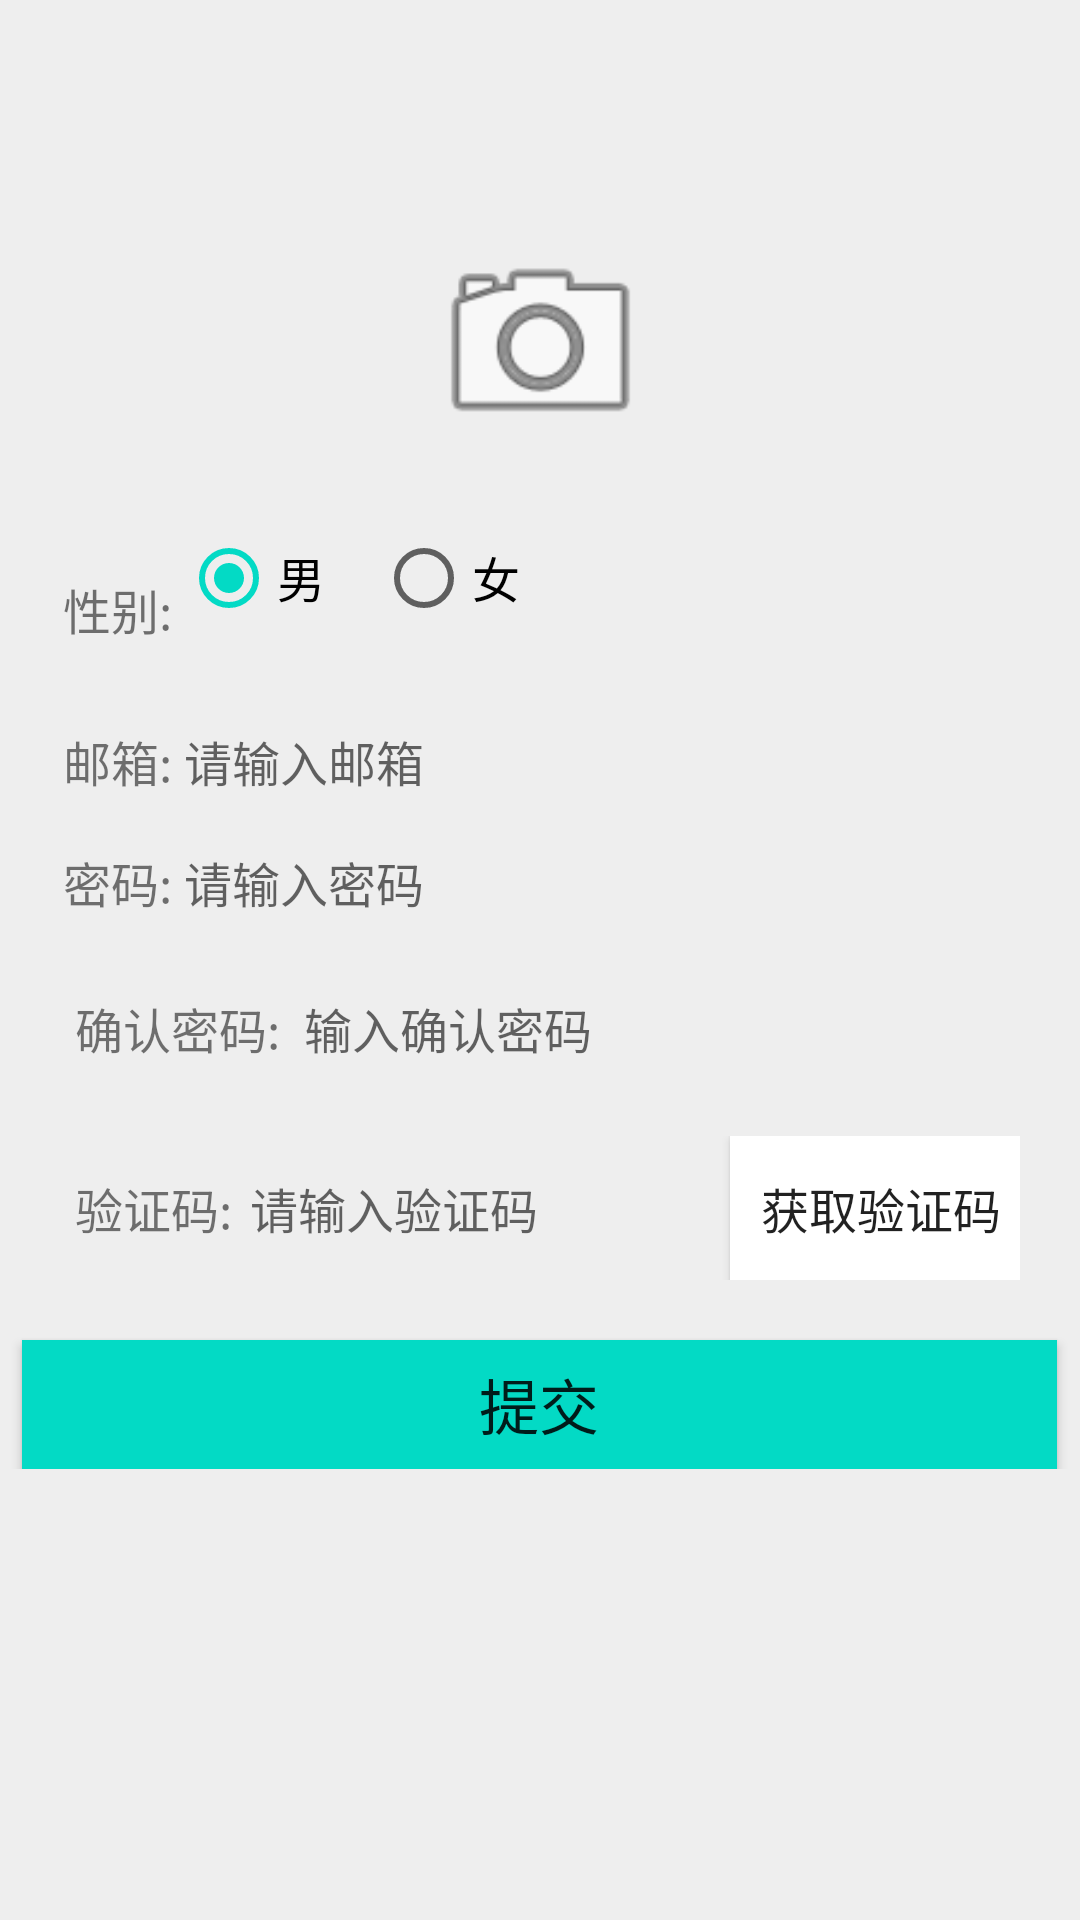

Icons on this 1080 x 1920 Android screen, each with the point to tap as [x,y]:
camera: [540,340]
